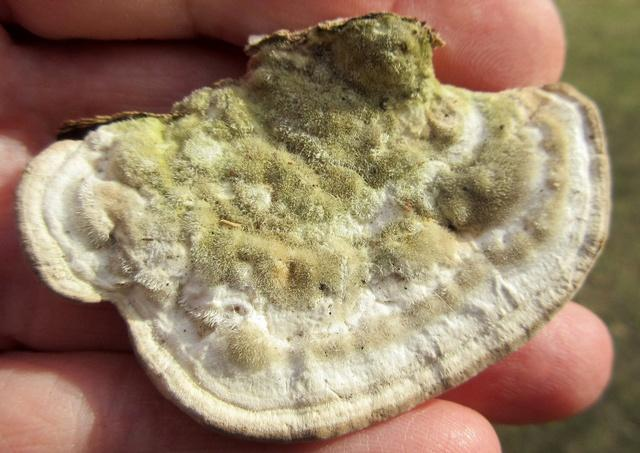Non-edible Mushroom: (14, 11, 613, 442)
